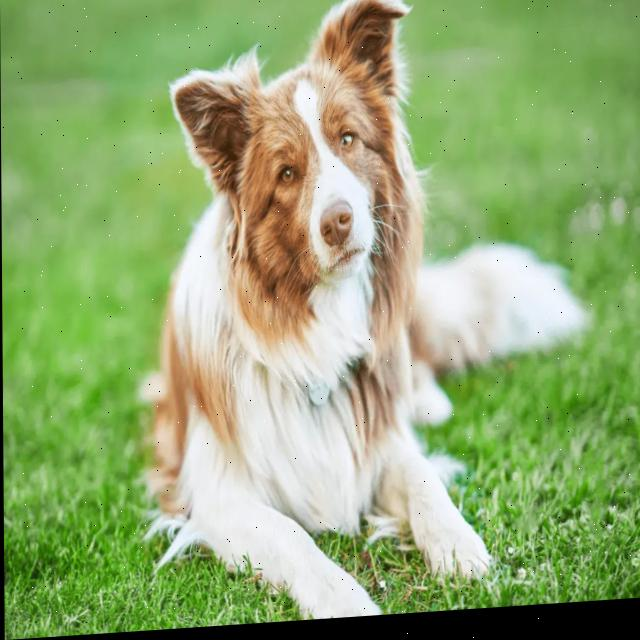BORDER_COLLIE: (98, 0, 596, 635)
